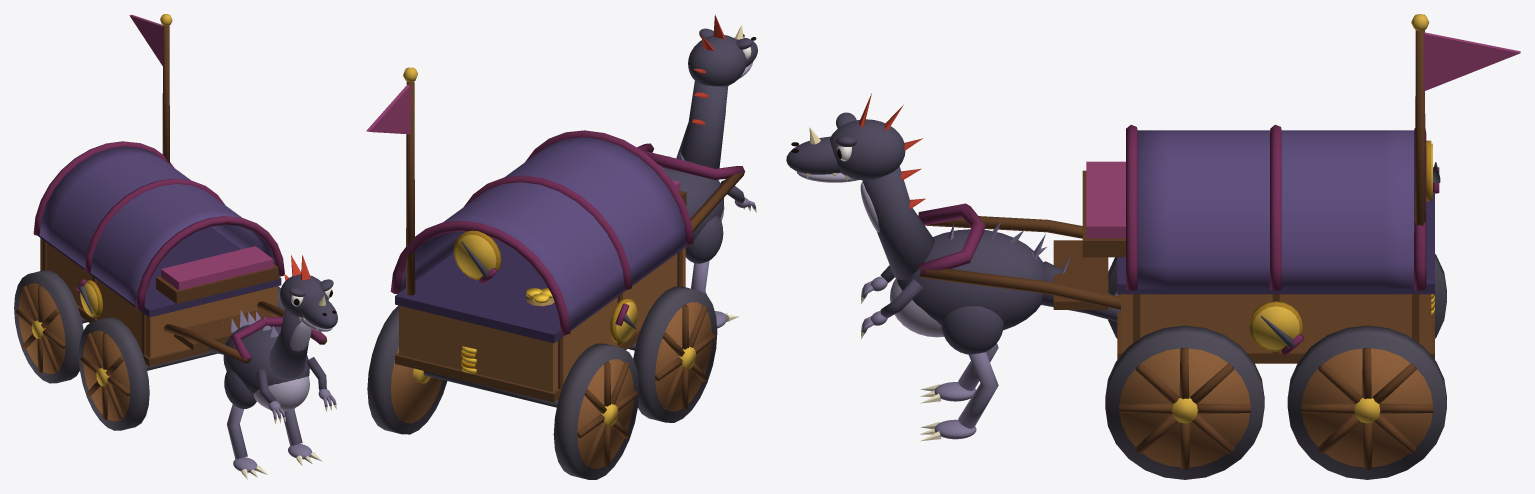
The model's file is sortie-vsa.glb.
3 views of the same model, side by side, from view 1: azimuth 30°, elevation 25°; view 2: azimuth 150°, elevation 25°; view 3: azimuth 270°, elevation 25° (orthographic). The views are drawn at different scales.
Parts seen in each view (by area): view 1: bache, caisse, caisse_bord.001, roue_jante.001, roue_jante, siege_coussin, corps, arceau.002, roue_creux.001, roue_creux, siege, cou (+16 smaller); view 2: bache, caisse, caisse_bord.001, roue_jante, roue_jante.001, roue_jante.002, cou, roue_creux, roue_creux.001, arceau, tete, roue_creux.002 (+14 smaller); view 3: bache, caisse, roue_creux.002, roue_creux.003, roue_jante.003, roue_jante.002, corps, cou, caisse_bord.001, tete, siege_coussin, fanion (+15 smaller).
Boxes of the visible parts, x1,y1,x2,y2 form: bache: [39, 146, 275, 305]; caisse: [40, 238, 277, 358]; caisse_bord.001: [38, 226, 281, 317]; roue_jante.001: [78, 317, 149, 430]; roue_jante: [14, 270, 83, 383]; siege_coussin: [161, 246, 273, 290]; corps: [223, 324, 309, 394]; arceau.002: [135, 216, 284, 310]; roue_creux.001: [83, 330, 129, 421]; roue_creux: [18, 283, 65, 373]; siege: [156, 264, 278, 303]; cou: [269, 309, 308, 378]; bache: [400, 137, 686, 331]; caisse: [399, 247, 685, 392]; caisse_bord.001: [395, 237, 688, 343]; roue_jante: [553, 343, 639, 479]; roue_jante.001: [633, 286, 717, 422]; roue_jante.002: [367, 305, 447, 434]; cou: [676, 81, 728, 168]; roue_creux: [577, 359, 633, 468]; roue_creux.001: [655, 302, 711, 411]; arceau: [390, 220, 570, 334]; tete: [688, 35, 746, 86]; roue_creux.002: [391, 348, 442, 423]; bache: [1137, 130, 1414, 288]; caisse: [1121, 294, 1431, 352]; roue_creux.002: [1302, 348, 1432, 467]; roue_creux.003: [1119, 348, 1250, 467]; roue_jante.003: [1105, 325, 1264, 479]; roue_jante.002: [1287, 325, 1446, 479]; corps: [897, 229, 1044, 330]; cou: [862, 166, 934, 279]; caisse_bord.001: [1117, 193, 1434, 294]; tete: [830, 119, 905, 180]; siege_coussin: [1086, 161, 1125, 238]; fanion: [1423, 32, 1520, 91].
Bounding box in the file's own units: 1.62 × 2.71 × 4.02.
